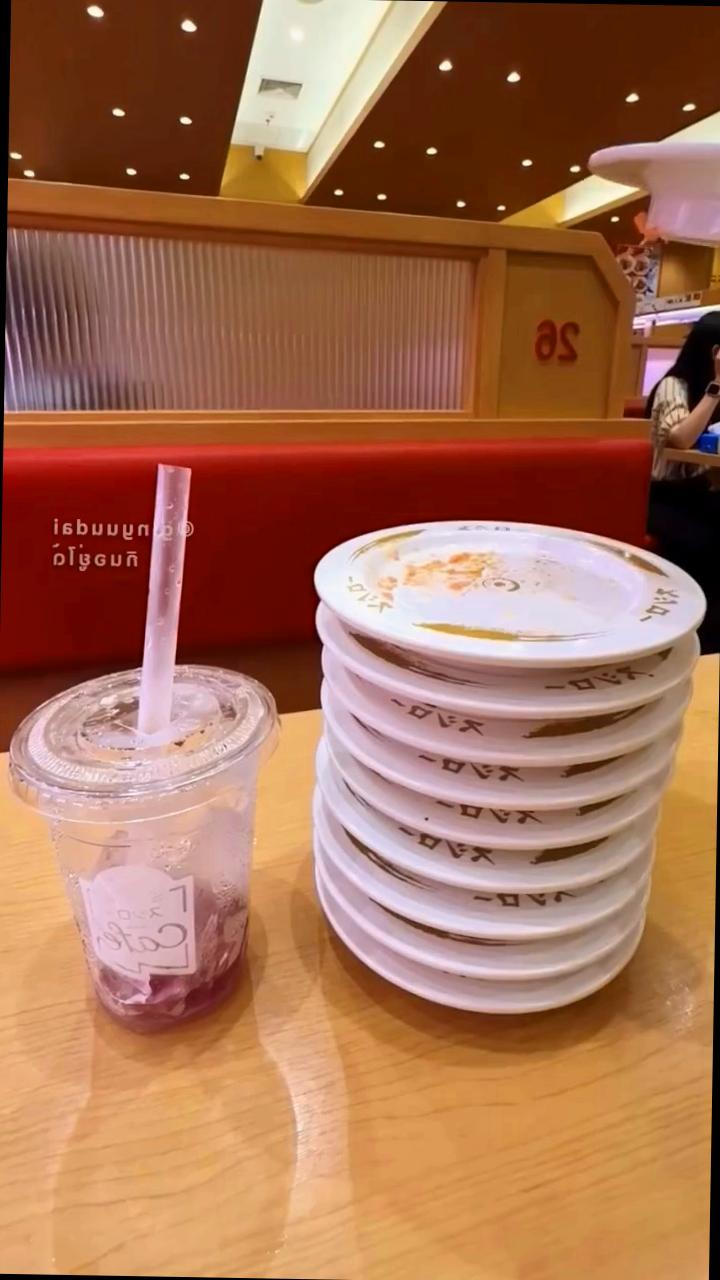Janwhite: (301, 532, 701, 666), (327, 660, 676, 710), (347, 714, 662, 765), (338, 960, 620, 1011), (363, 767, 649, 804), (359, 888, 621, 924), (371, 806, 635, 841), (374, 848, 627, 884), (378, 929, 610, 960)
